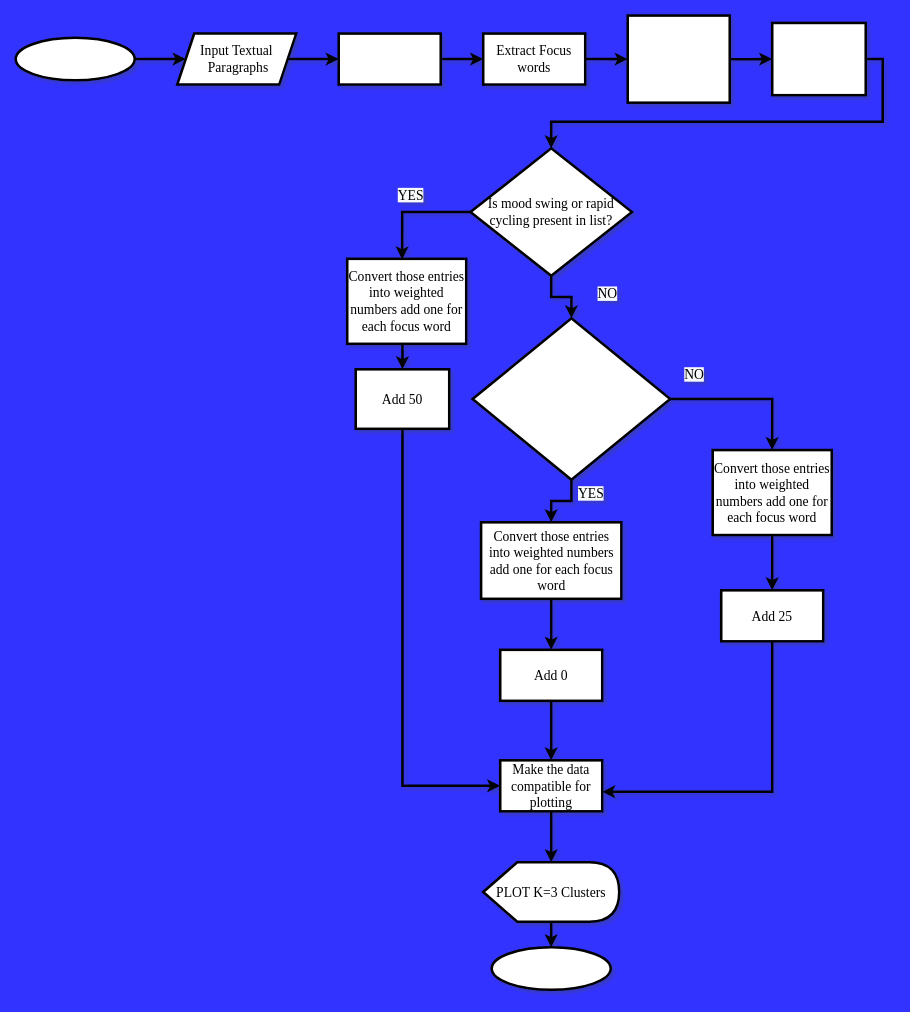
This 910x1012 diagram has some shape labels left out. Here are the shapes that lost their labels. From the top down, the centre of each, then its label:
At point (75, 58): "Start".
At point (389, 58): "Stop Word Removal And Lemmitization".
At point (678, 59): "Create more focus words using synonyms to create detailed database".
At point (819, 58): "List of traits,habits, rituals and moods".
At point (571, 399): "Are anger or mania related and mood swing or rapid cycling not present".
At point (551, 968): "End".
